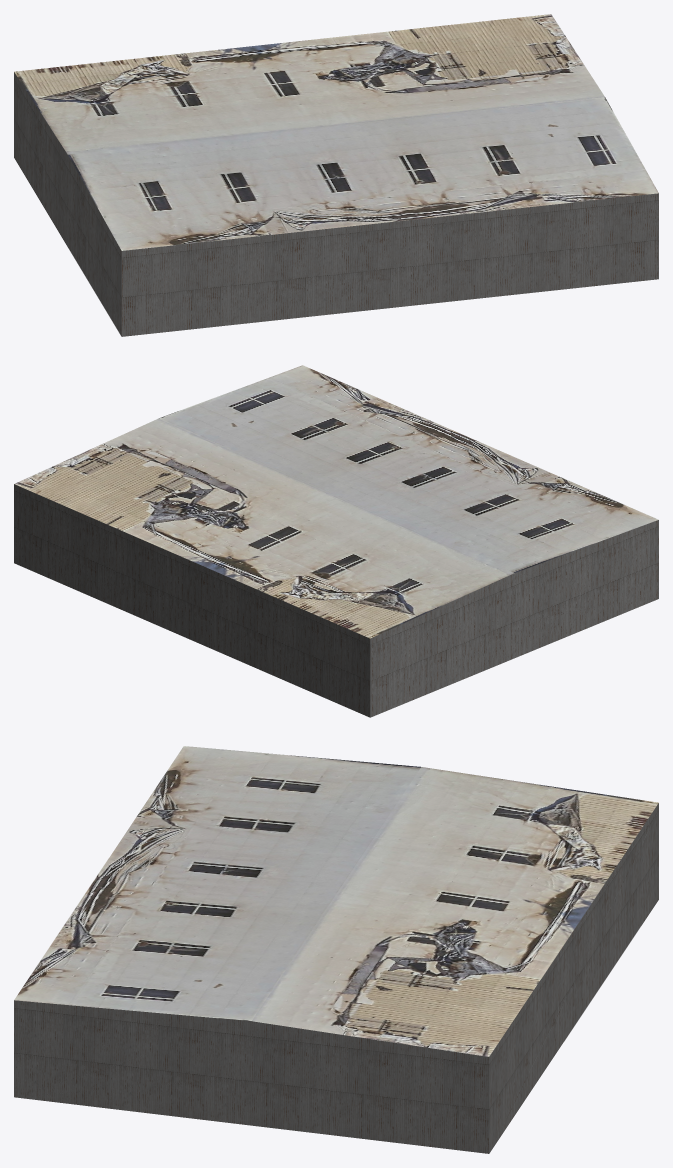
File: hangarNearTower.gltf
The picture shows the model from 3 angles, top to bottom: view 1: azimuth 30°, elevation 25°; view 2: azimuth 150°, elevation 25°; view 3: azimuth 270°, elevation 25°; orthographic projection. The views are drawn at different scales.
Visible parts, largest first — view 1: node3, node1; view 2: node3, node1; view 3: node3, node1.
Part boxes in pixels (x1=…): node3: x1=14, y1=14, x2=658, y2=250; node1: x1=14, y1=72, x2=658, y2=336; node3: x1=14, y1=365, x2=658, y2=638; node1: x1=14, y1=484, x2=658, y2=717; node3: x1=14, y1=746, x2=658, y2=1056; node1: x1=14, y1=803, x2=658, y2=1153.
Size of the model in its own units: 44.72 by 7 by 39.19.
